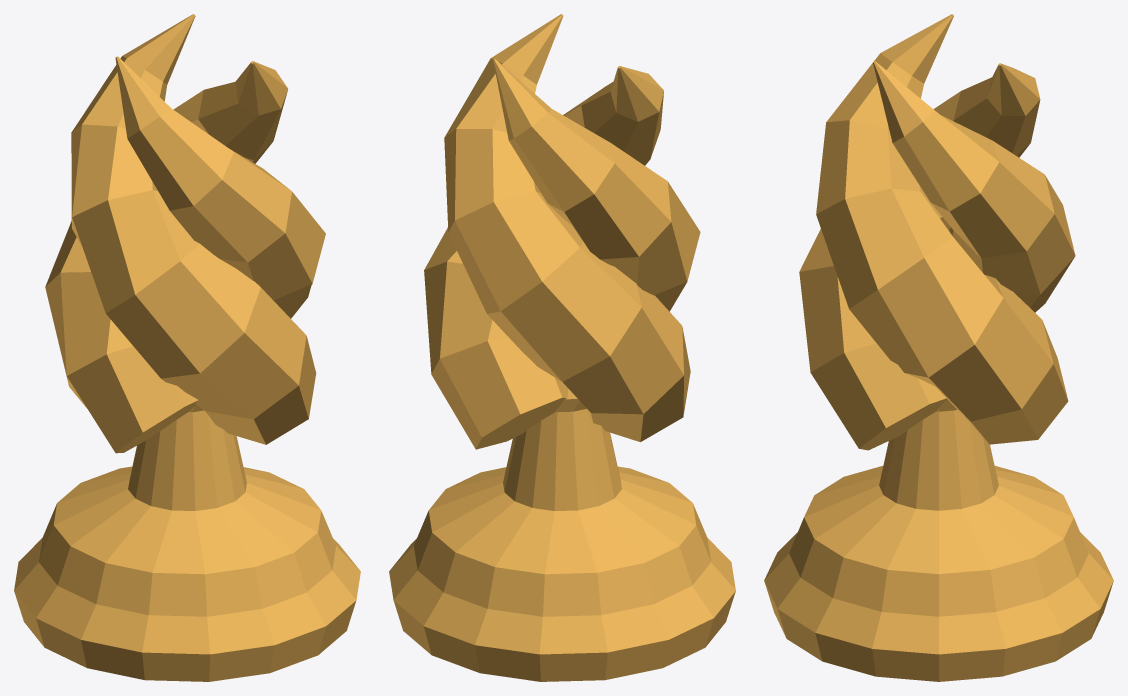
File: trophy4.glb
The picture shows the model from 3 angles, left to right: view 1: azimuth 30°, elevation 25°; view 2: azimuth 150°, elevation 25°; view 3: azimuth 270°, elevation 25°; orthographic projection.
Parts seen in each view (by area): view 1: Trophy4; view 2: Trophy4; view 3: Trophy4.
Part boxes in pixels (x1=…): Trophy4: x1=14, y1=14, x2=360, y2=681; Trophy4: x1=389, y1=14, x2=735, y2=681; Trophy4: x1=764, y1=14, x2=1113, y2=681.
Bounding box in the file's own units: 0.6999 × 1.25 × 0.6999.
